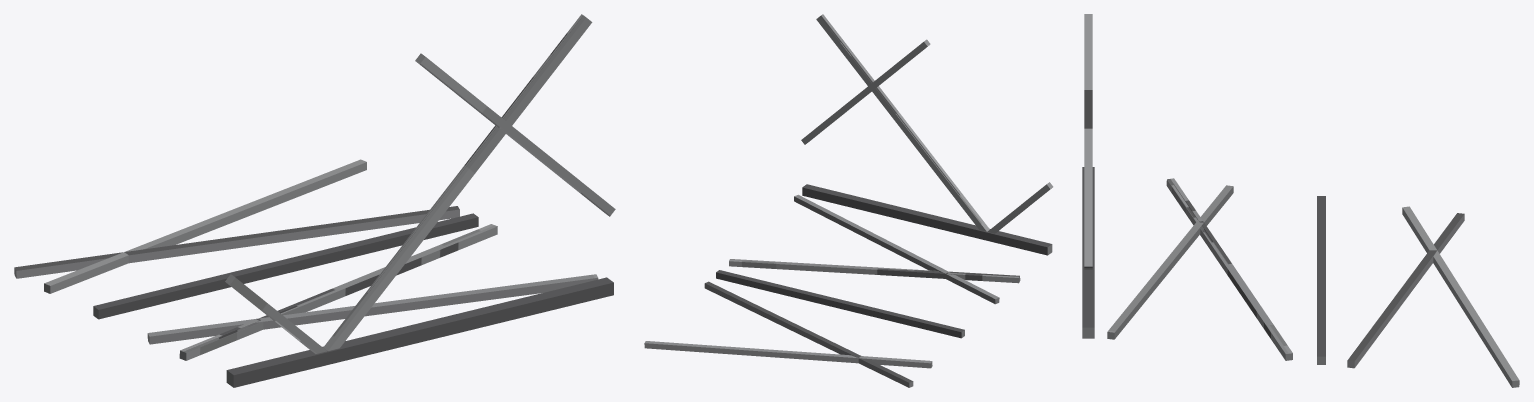
The picture shows the model from 3 angles, left to right: view 1: azimuth 30°, elevation 25°; view 2: azimuth 150°, elevation 25°; view 3: azimuth 270°, elevation 25°; orthographic projection. The views are drawn at different scales.
Size of the model in its own units: 2.03 by 1.71 by 2.3.
